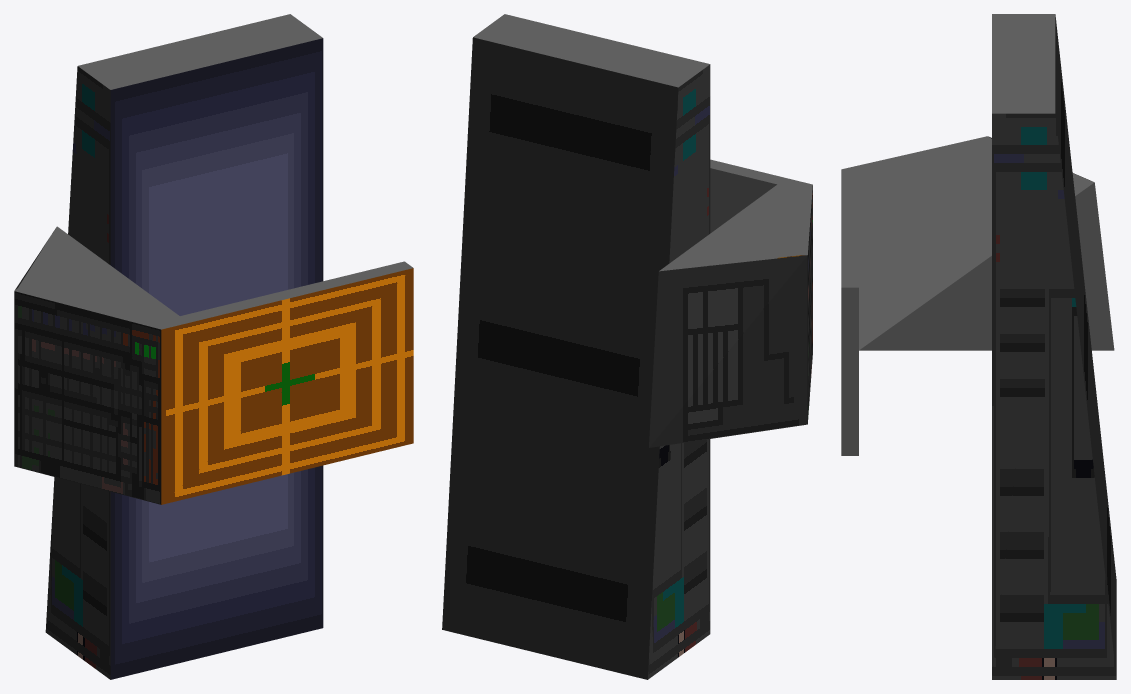
3 renders of one model, left to right at view 1: azimuth 30°, elevation 25°; view 2: azimuth 150°, elevation 25°; view 3: azimuth 270°, elevation 25°, orthographic. The views are drawn at different scales.
Visible parts, largest first — view 1: ss3d_28_x_ray_mach; view 2: ss3d_28_x_ray_mach; view 3: ss3d_28_x_ray_mach.
Boxes of the visible parts, x1,y1,x2,y2 form: ss3d_28_x_ray_mach: (14,14,413,679); ss3d_28_x_ray_mach: (442,14,812,679); ss3d_28_x_ray_mach: (841,14,1116,679).
Bounding box in the file's own units: 0.5766 × 1.01 × 0.443.
1 material, 1 textured.
